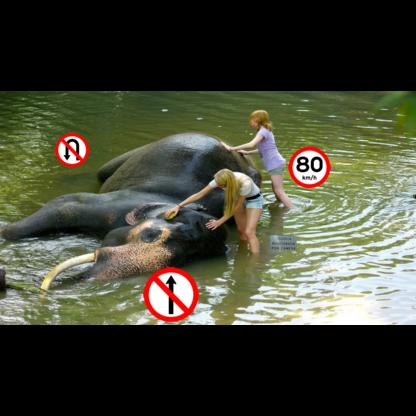I-E: (270, 235, 296, 251)
R-19: (288, 146, 330, 188)
R-3: (143, 267, 199, 322)
R-5a: (55, 133, 89, 167)
